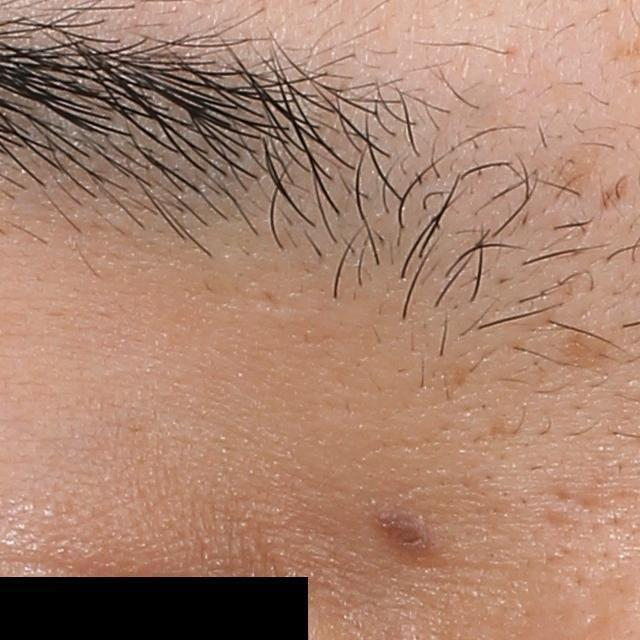nevus: (367, 501, 433, 560)
